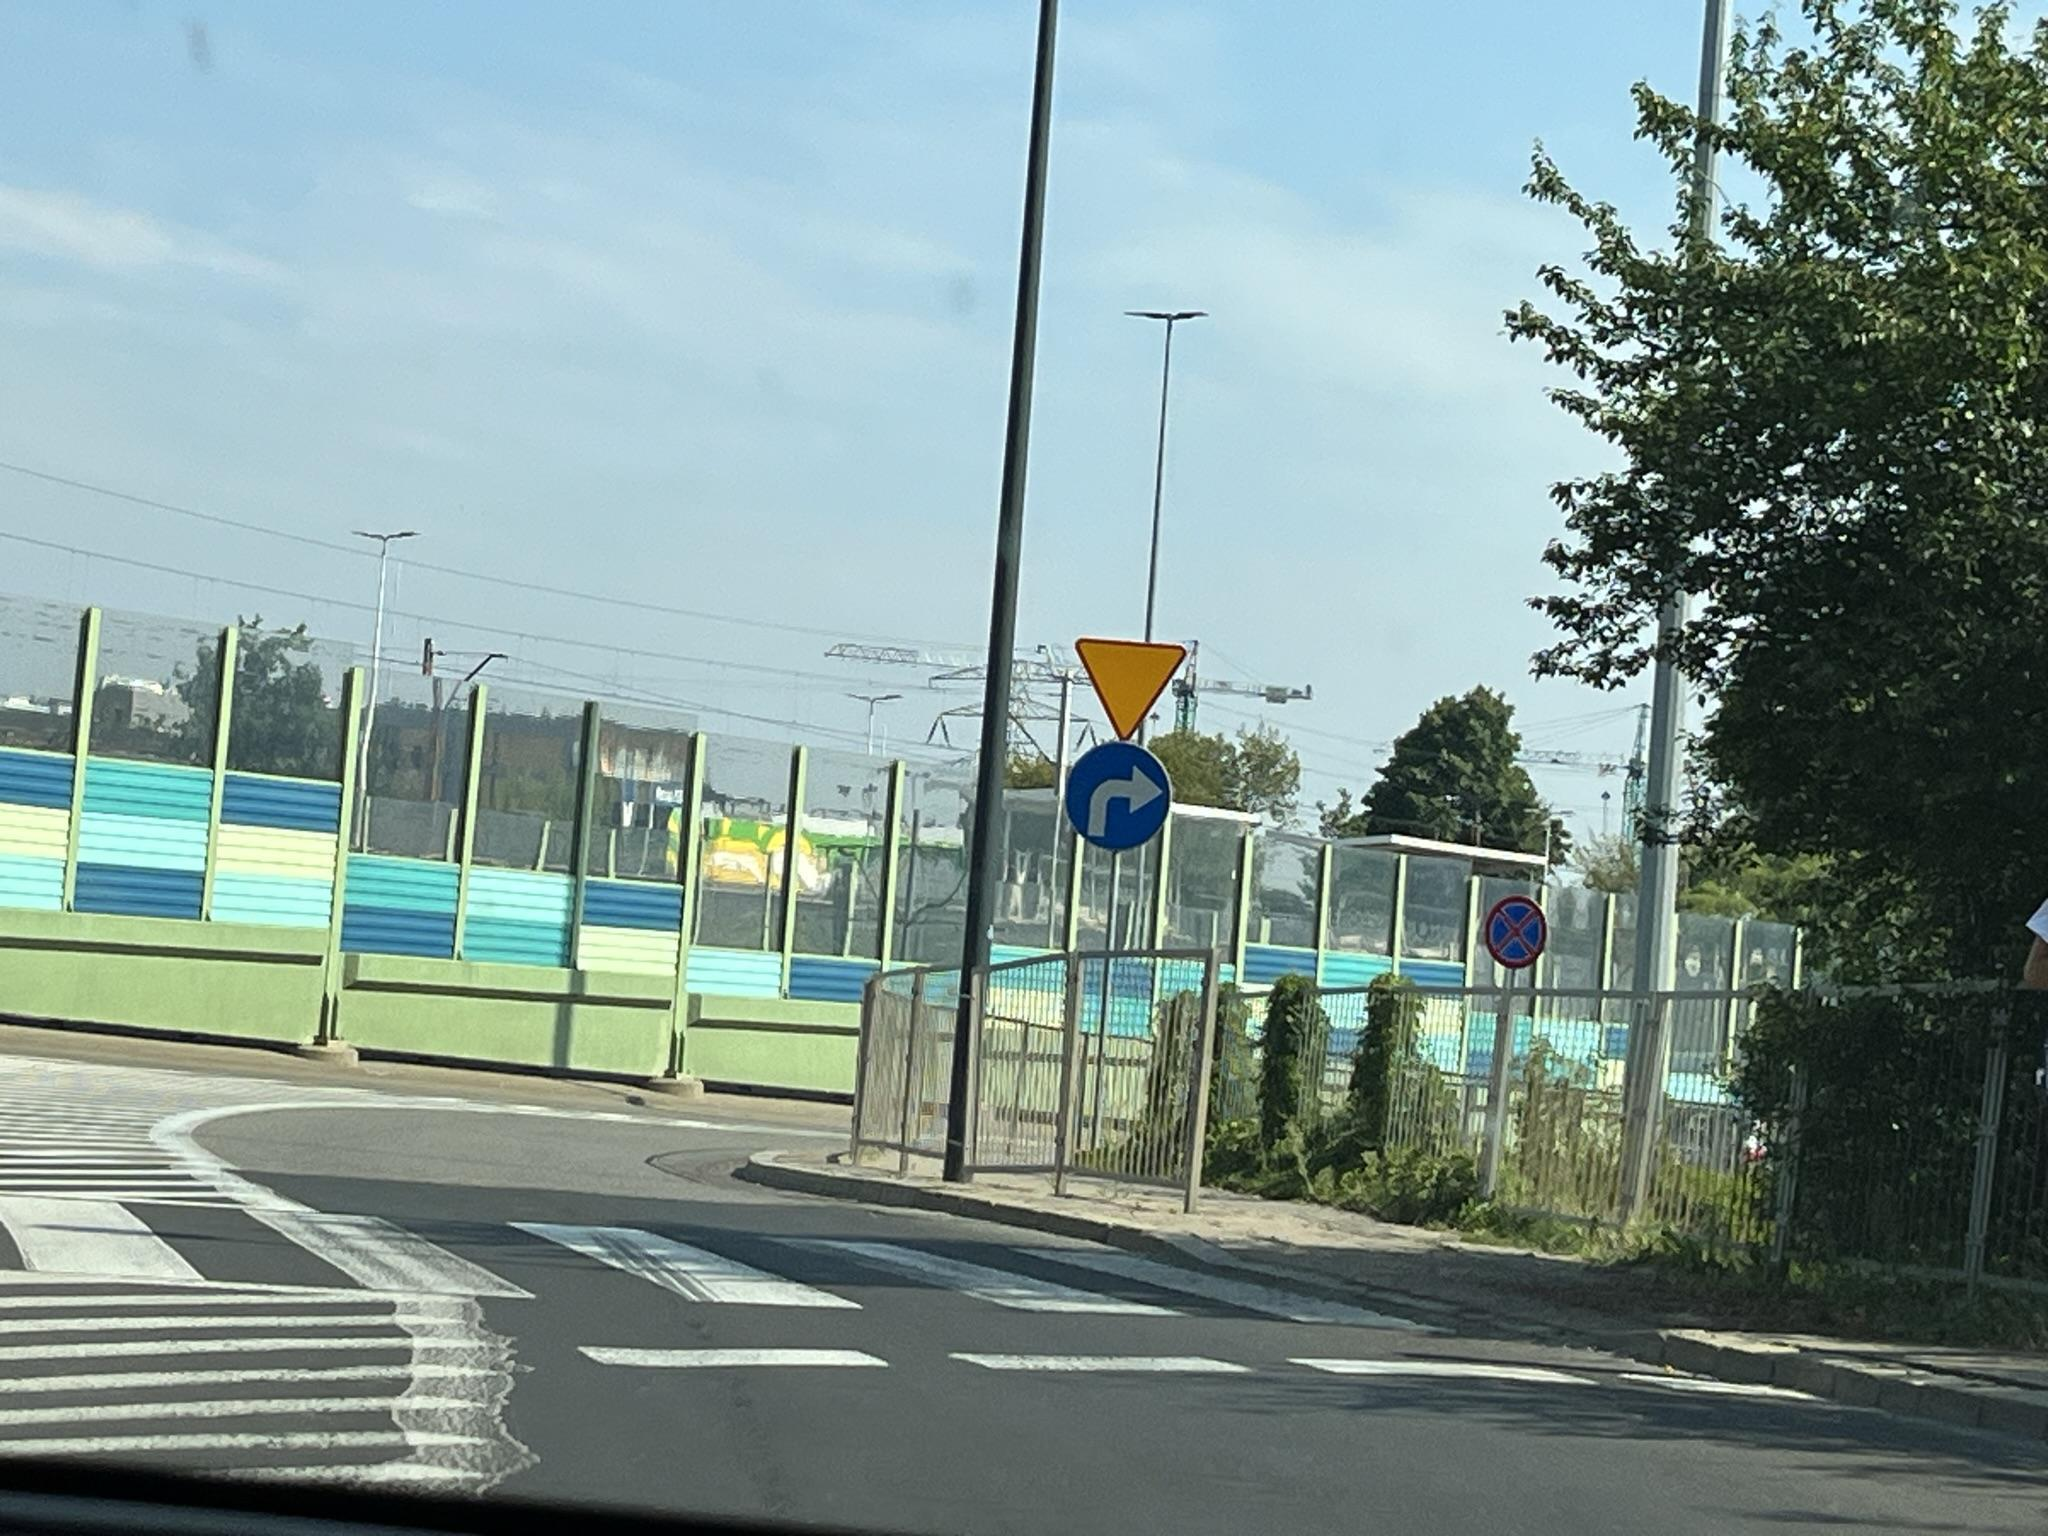mandatory: (1063, 741, 1174, 854)
prohibitory: (1485, 895, 1548, 970)
warning: (1074, 636, 1187, 741)
